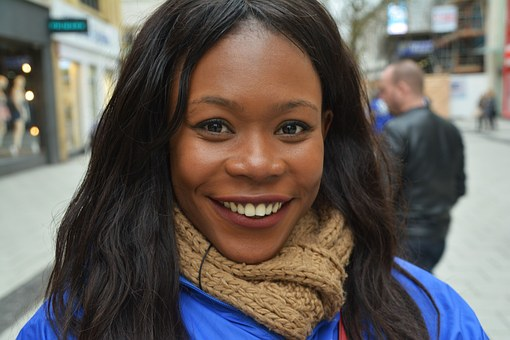shoot: (200, 192, 303, 226)
